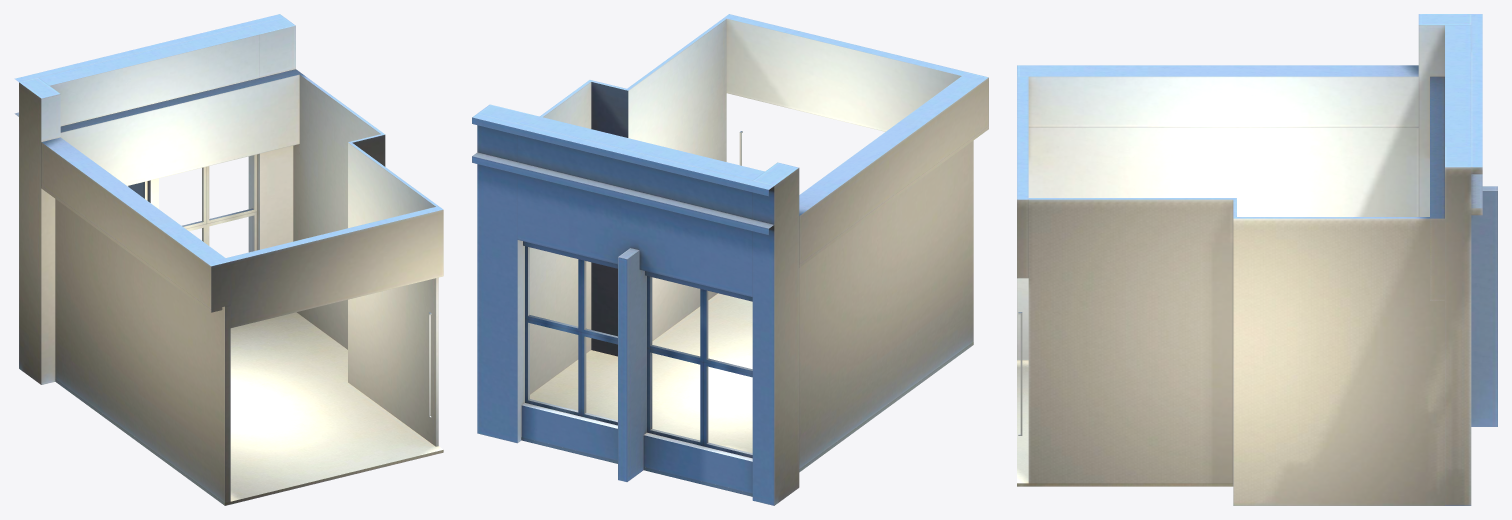
3 views of the same model, side by side, from view 1: azimuth 30°, elevation 25°; view 2: azimuth 150°, elevation 25°; view 3: azimuth 270°, elevation 25° (orthographic). The views are drawn at different scales.
Parts seen in each view (by area): view 1: hc_2floor_room012_0; view 2: hc_2floor_room012_0; view 3: hc_2floor_room012_0.
Boxes of the visible parts, box(x1,y1,x2,y2) form: hc_2floor_room012_0: box(14, 14, 443, 505); hc_2floor_room012_0: box(472, 14, 988, 505); hc_2floor_room012_0: box(1017, 14, 1497, 505).
Size of the model in its own units: 0.48 by 0.4943 by 0.6361.
Materials: 1 (1 with a texture image).
